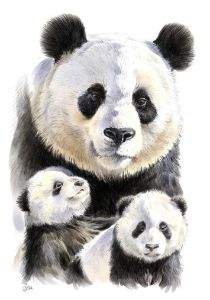bear: (23, 7, 197, 191), (86, 190, 200, 289), (14, 166, 101, 279)
